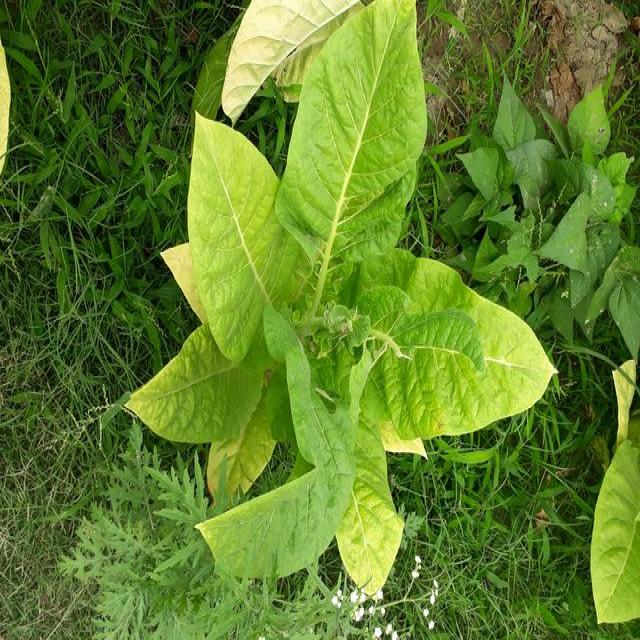crop: (152, 0, 542, 589), (589, 390, 640, 637)
